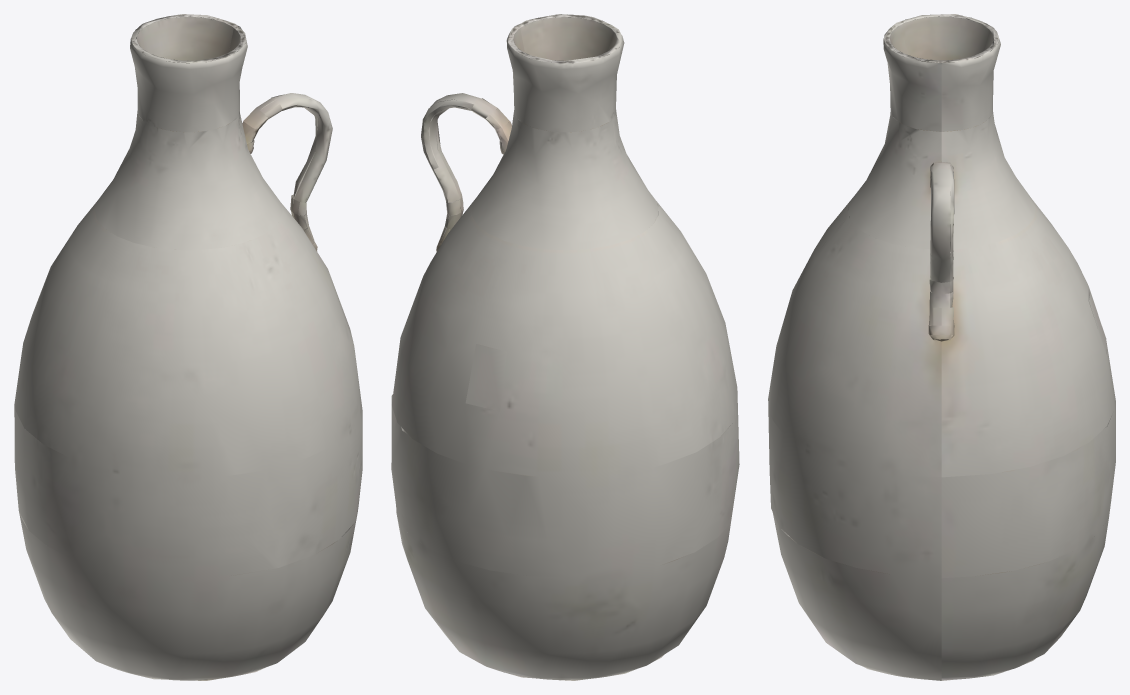
File: ceramic_vase_04.glb
The picture shows the model from 3 angles, left to right: view 1: azimuth 30°, elevation 25°; view 2: azimuth 150°, elevation 25°; view 3: azimuth 270°, elevation 25°; orthographic projection.
Visible parts, largest first — view 1: ceramic_vase_04; view 2: ceramic_vase_04; view 3: ceramic_vase_04.
Part boxes in pixels (x1,y1,x2,y2): ceramic_vase_04: [14, 14, 362, 680]; ceramic_vase_04: [391, 14, 739, 680]; ceramic_vase_04: [768, 14, 1115, 680].
Size of the model in its own units: 0.1807 by 0.3418 by 0.1806.
Materials: 1 (1 with a texture image).
